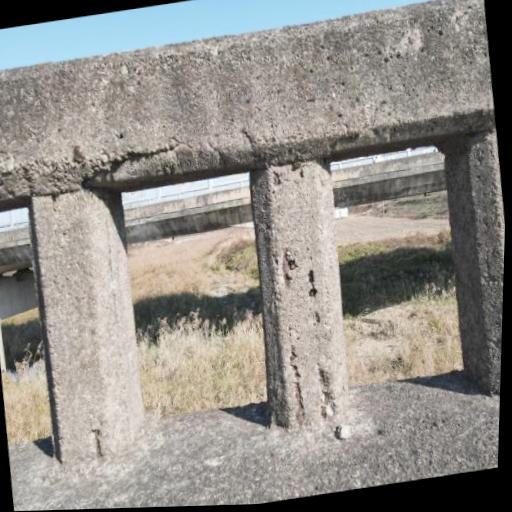exposed_rebar: (283, 248, 295, 285), (295, 384, 303, 421), (291, 348, 299, 380), (308, 270, 316, 298), (93, 430, 101, 457), (321, 393, 327, 418), (319, 369, 324, 386), (274, 178, 278, 190), (315, 314, 319, 322)
